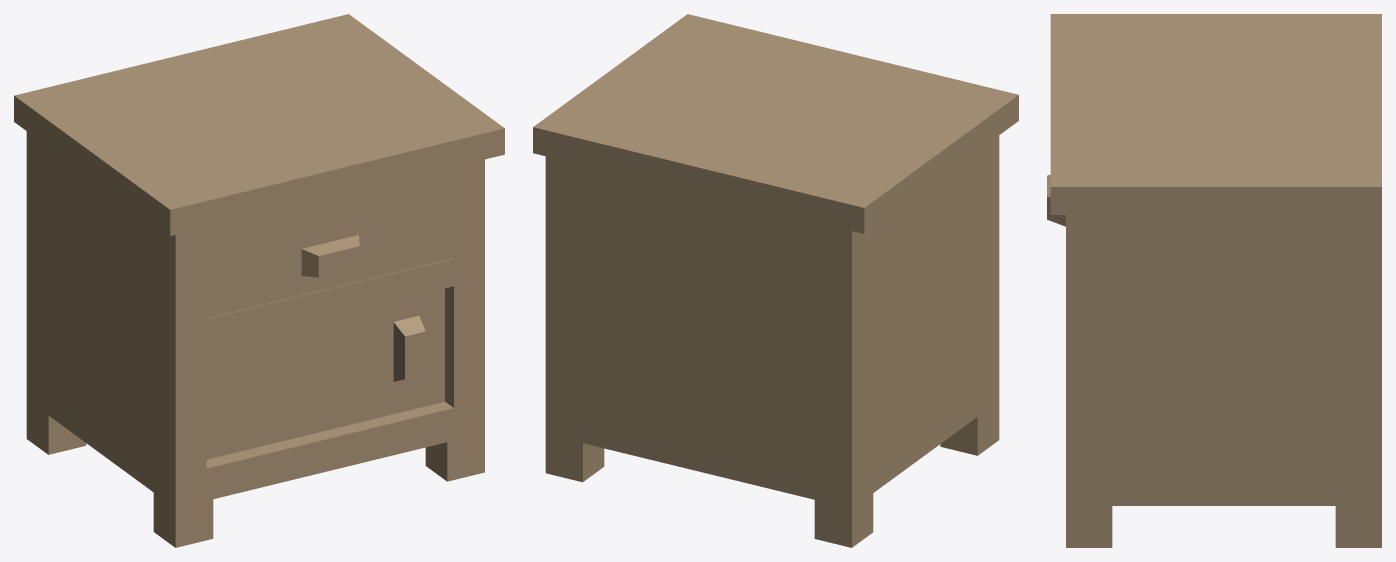
Rendered from cabinetBedDrawer.glb.
3 views of the same model, side by side, from view 1: azimuth 30°, elevation 25°; view 2: azimuth 150°, elevation 25°; view 3: azimuth 270°, elevation 25° (orthographic). The views are drawn at different scales.
Parts seen in each view (by area): view 1: cabinetBedDrawer(Clone), door; view 2: cabinetBedDrawer(Clone); view 3: cabinetBedDrawer(Clone).
Boxes of the visible parts, x1=… form: cabinetBedDrawer(Clone): x1=14, y1=14, x2=504, y2=547; door: x1=301, y1=235, x2=425, y2=381; cabinetBedDrawer(Clone): x1=533, y1=14, x2=1018, y2=547; cabinetBedDrawer(Clone): x1=1050, y1=14, x2=1381, y2=547.
Bounding box in the file's own units: 0.266 × 0.2632 × 0.2173.
